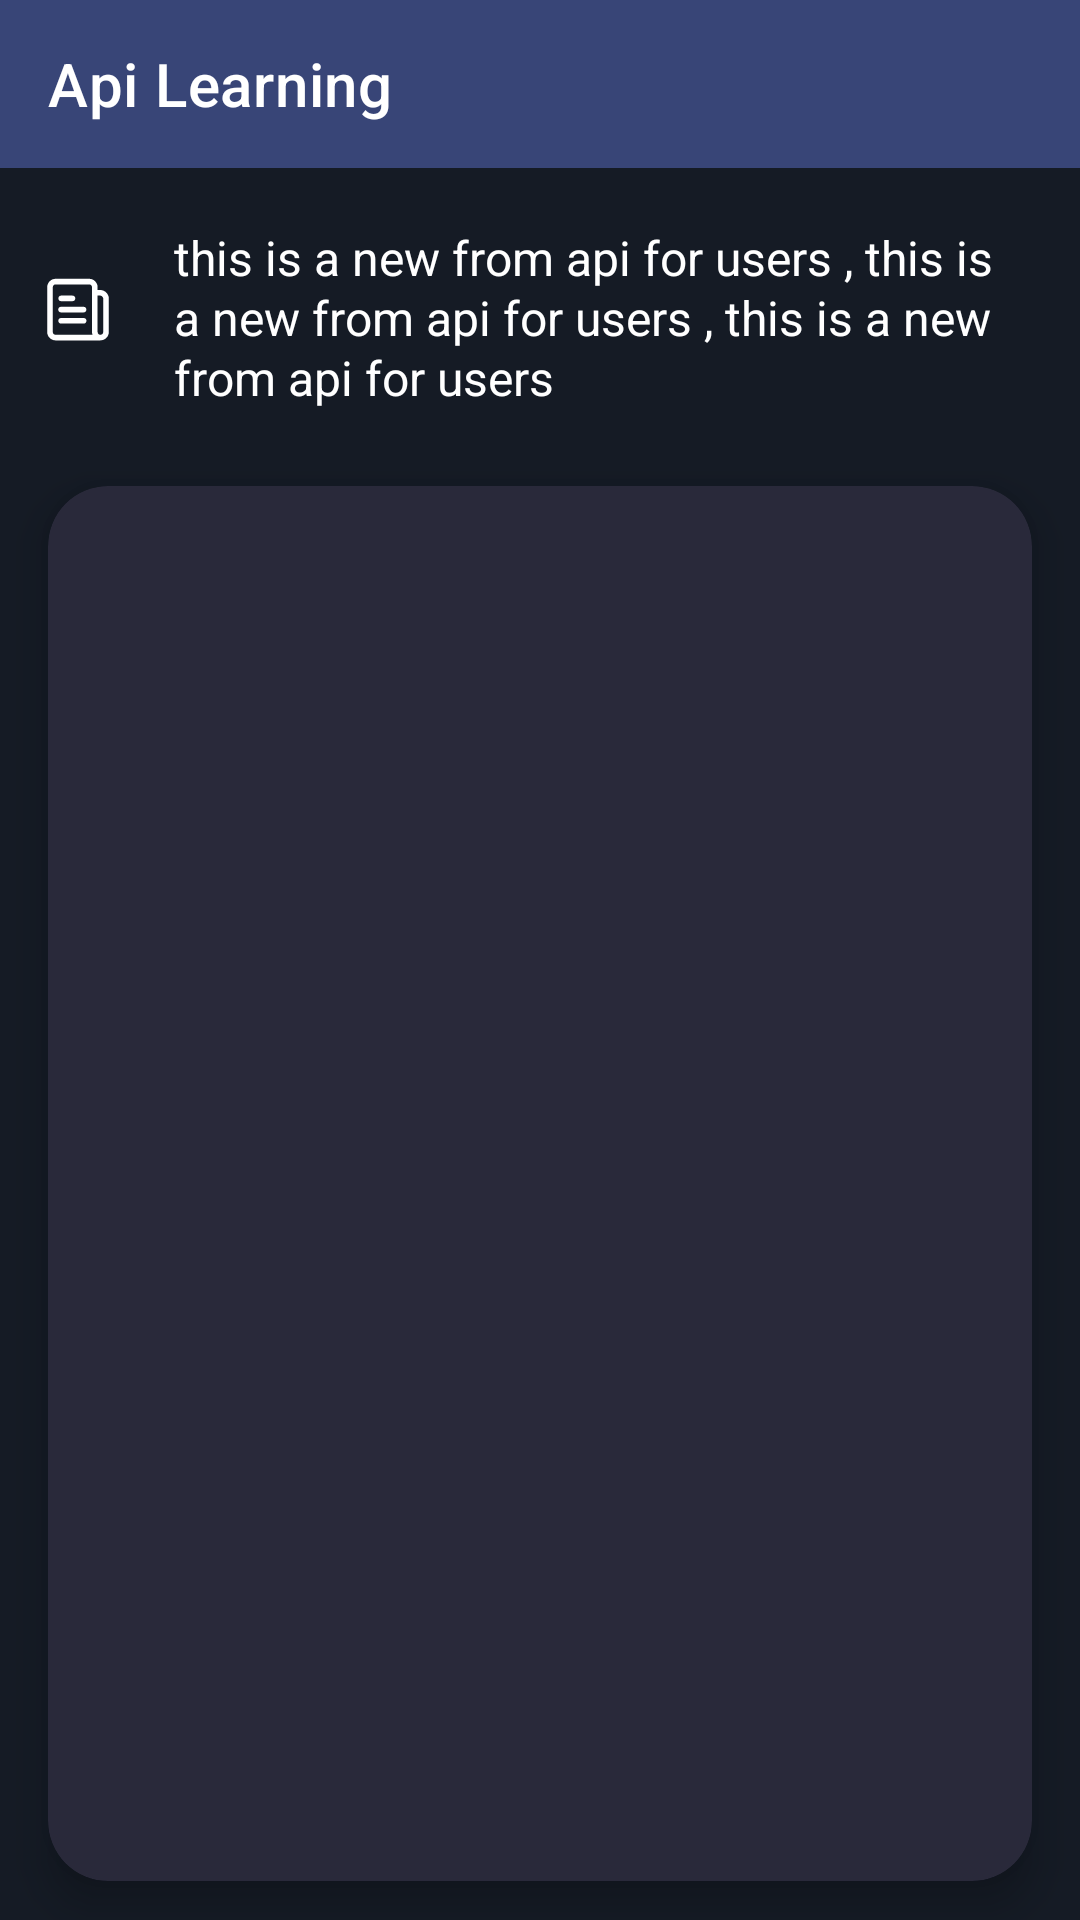

Icon click points for this 1080px×1920px phone screenshot, format point (x, y):
news: point (78, 309)
